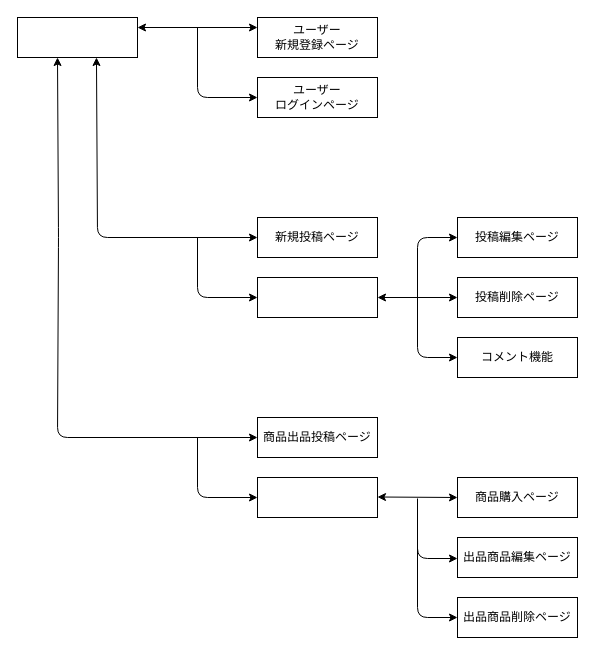
Some shapes in this 595 by 655 pixel diagram are drawn without their labels. Each missing label, with the centre of its shape:
"トップページ （一覧ページ）" belongs at (x=77, y=37).
"商品出品詳細 ページ" belongs at (x=317, y=497).
"投稿詳細ページ" belongs at (x=317, y=297).
